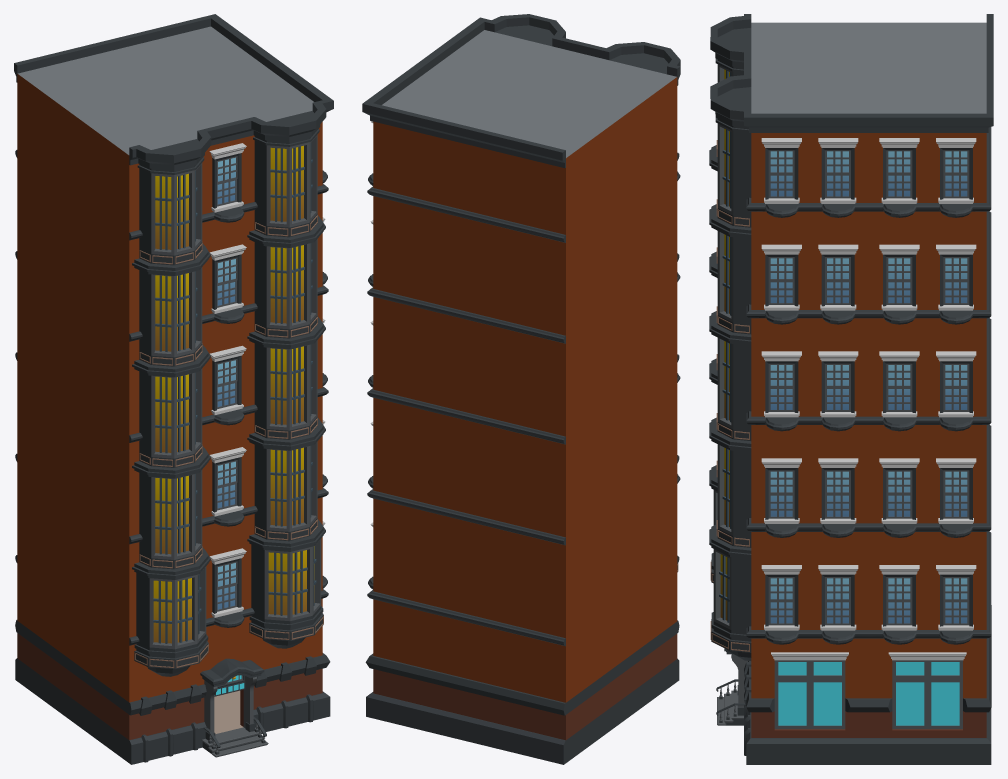
The model's file is SM_Buildings_House_07_V4.fbx.
3 renders of one model, left to right at view 1: azimuth 30°, elevation 25°; view 2: azimuth 150°, elevation 25°; view 3: azimuth 270°, elevation 25°, orthographic. The views are drawn at different scales.
Parts seen in each view (by area): view 1: SM_Buildings_House_07_V4; view 2: SM_Buildings_House_07_V4; view 3: SM_Buildings_House_07_V4.
Boxes of the visible parts, <box> form: SM_Buildings_House_07_V4: <box>14,14,333,764</box>; SM_Buildings_House_07_V4: <box>362,14,680,764</box>; SM_Buildings_House_07_V4: <box>709,14,993,764</box>.
Bounding box in the file's own units: 10.91 × 30.4 × 12.08.
